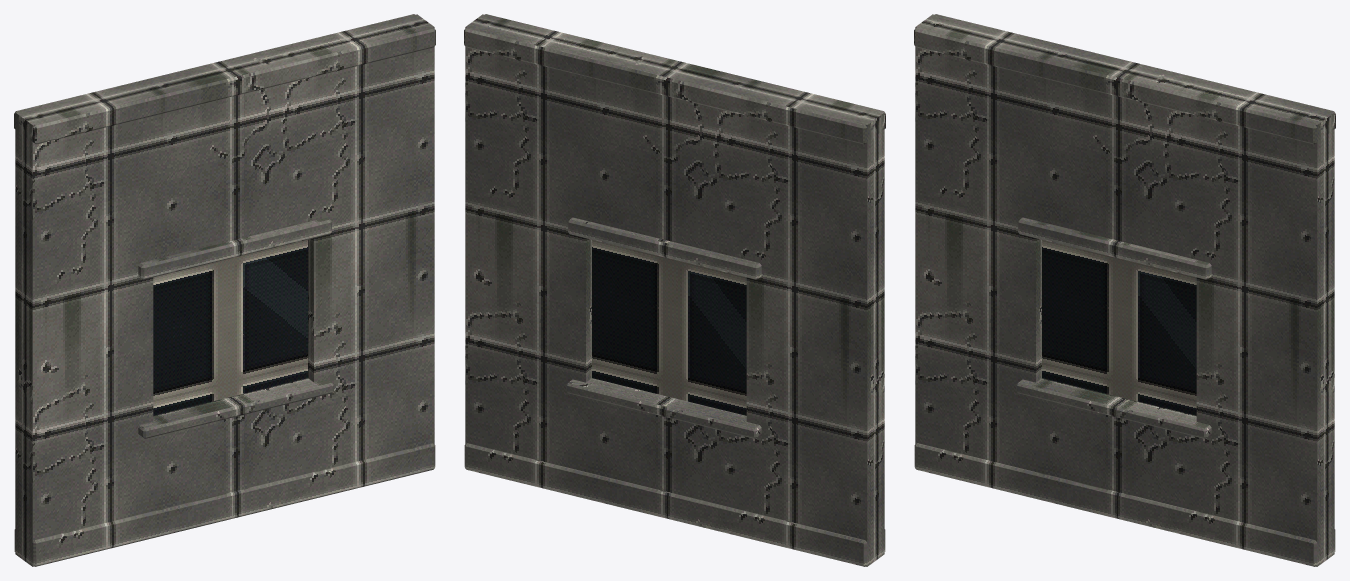
Rendered from wall_concrete_glass.glb.
3 views of the same model, side by side, from view 1: azimuth 30°, elevation 25°; view 2: azimuth 150°, elevation 25°; view 3: azimuth 330°, elevation 25° (orthographic).
Visible parts, largest first — view 1: wall_concrete_glass_mesh; view 2: wall_concrete_glass_mesh; view 3: wall_concrete_glass_mesh.
Part boxes in pixels (x1,y1,x2,y2): wall_concrete_glass_mesh: (14,14,435,566); wall_concrete_glass_mesh: (464,14,885,566); wall_concrete_glass_mesh: (914,14,1335,566).
Size of what is drawn, in the model's own units: 4 by 4.2 by 0.5.
Materials: 2 (2 with a texture image).
